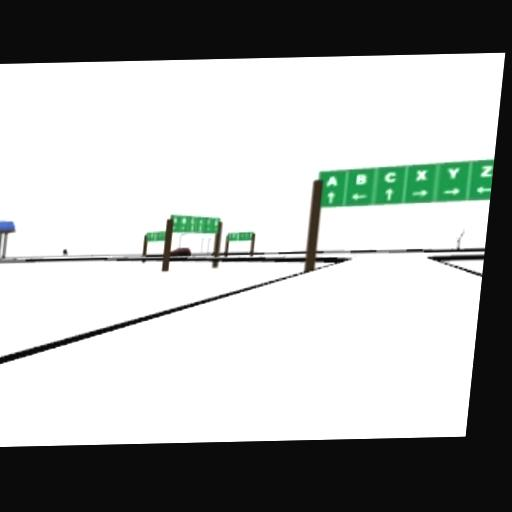A: (325, 175, 338, 186)
B: (355, 174, 368, 185)
C: (384, 171, 396, 183)
Left: (475, 186, 492, 194), (351, 194, 366, 201)
Right: (411, 188, 427, 196), (441, 188, 459, 195)
Straight: (383, 187, 393, 200), (325, 191, 334, 204)
X: (416, 170, 428, 181)
Y: (446, 167, 460, 178)
Z: (478, 165, 492, 176)
